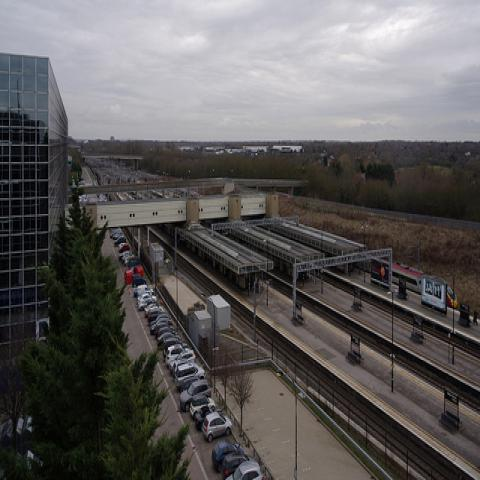car: (110, 228, 216, 415), (179, 378, 212, 412), (202, 411, 232, 442), (174, 362, 206, 390), (214, 441, 243, 471), (221, 453, 251, 479), (168, 348, 196, 375), (193, 405, 222, 430), (225, 460, 265, 478), (165, 344, 184, 366), (173, 359, 195, 377), (158, 327, 175, 342), (137, 294, 157, 305), (132, 274, 146, 288)
